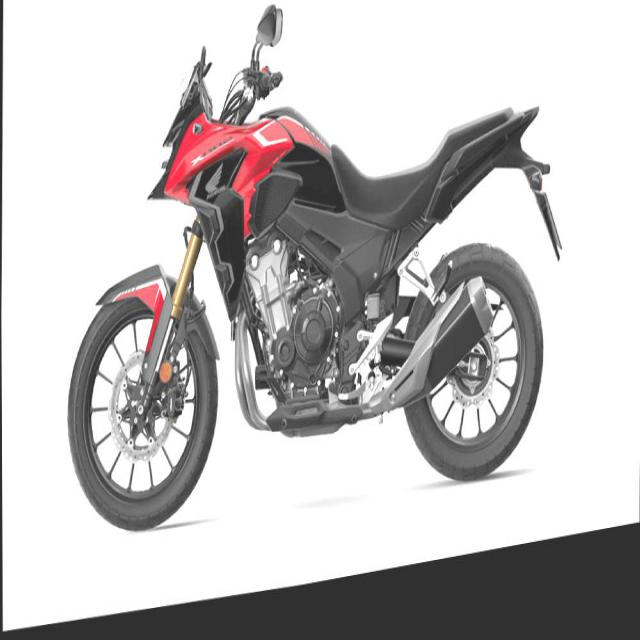CB500X: (64, 0, 566, 559)
